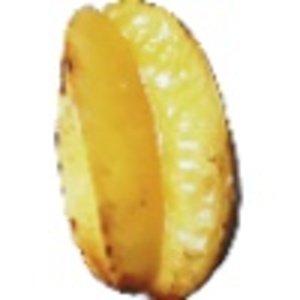carambola: (54, 1, 242, 300)
